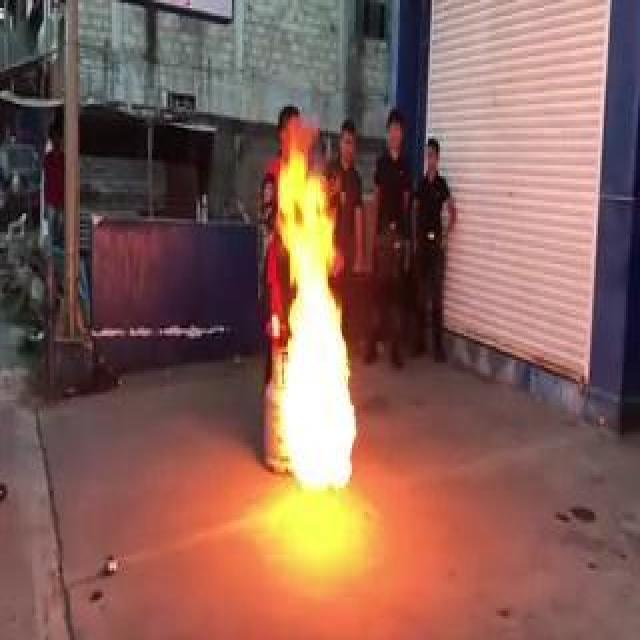Fire: (274, 149, 360, 496)
